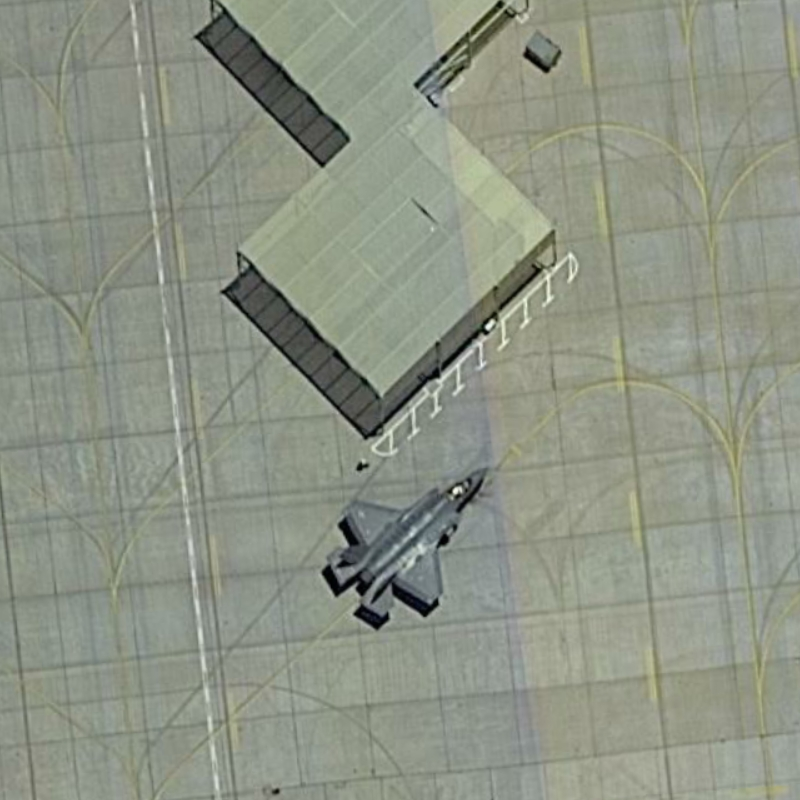A15: (318, 461, 493, 630)
